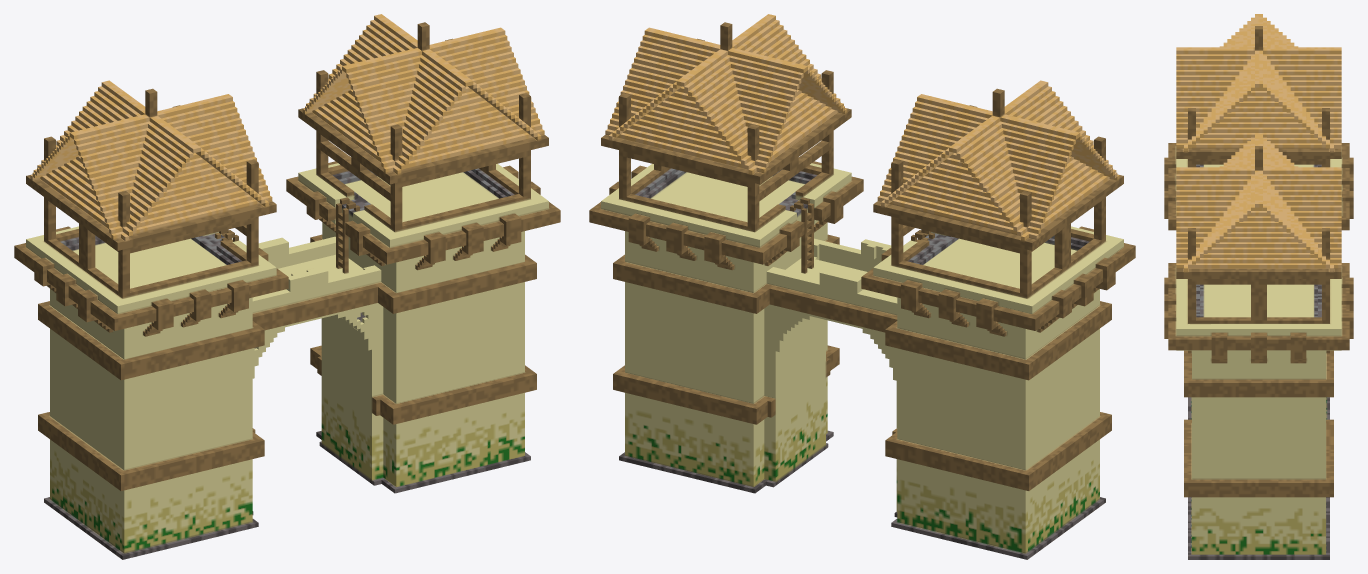
Rendered from Wall_Entrance.glb.
3 renders of one model, left to right at view 1: azimuth 30°, elevation 25°; view 2: azimuth 150°, elevation 25°; view 3: azimuth 270°, elevation 25°, orthographic. The views are drawn at different scales.
Parts seen in each view (by area): view 1: Wall_Entrance; view 2: Wall_Entrance; view 3: Wall_Entrance.
Boxes of the visible parts, x1,y1,x2,y2 form: Wall_Entrance: [14, 14, 560, 559]; Wall_Entrance: [589, 14, 1135, 559]; Wall_Entrance: [1164, 14, 1353, 559].
Bounding box in the file's own units: 12 × 10.7 × 4.8.
1 material, 1 textured.
